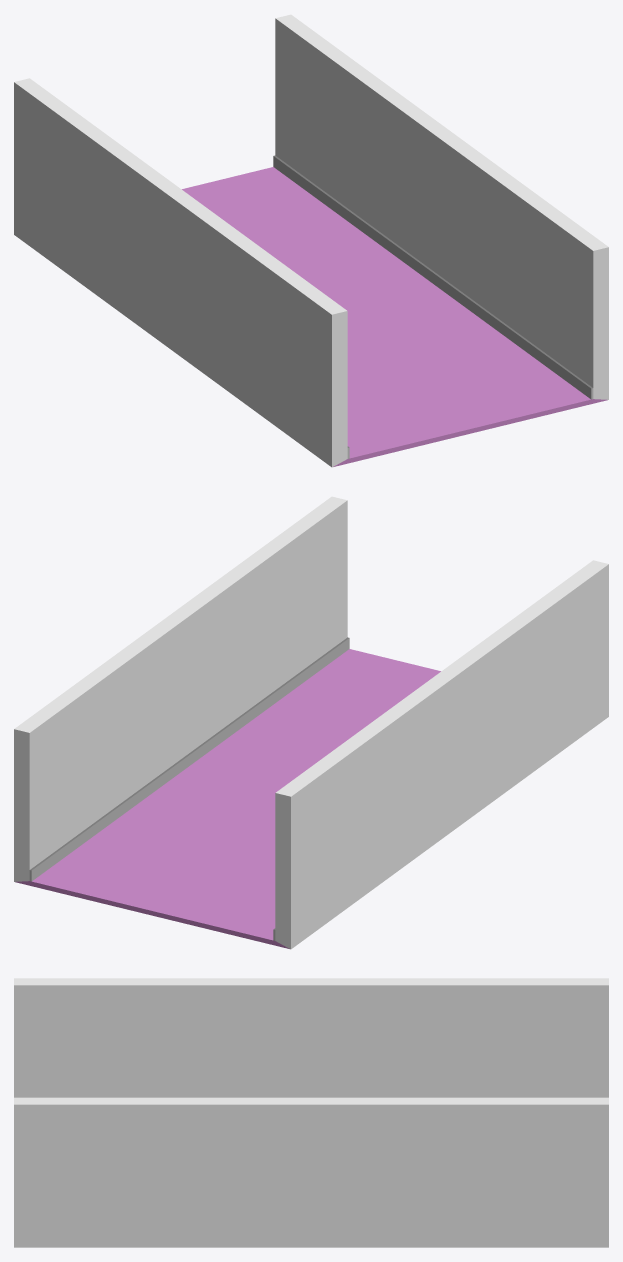
The model's file is Ground Wall.FBX.
The picture shows the model from 3 angles, top to bottom: view 1: azimuth 30°, elevation 25°; view 2: azimuth 150°, elevation 25°; view 3: azimuth 270°, elevation 25°; orthographic projection. The views are drawn at different scales.
Parts seen in each view (by area): view 1: Object013; view 2: Object013; view 3: Object013.
Boxes of the visible parts, <box> form: Object013: <box>14,14,608,467</box>; Object013: <box>14,496,608,949</box>; Object013: <box>14,978,608,1247</box>.
Bounding box in the file's own units: 519 × 274 × 1032.
1 material, 1 textured.
